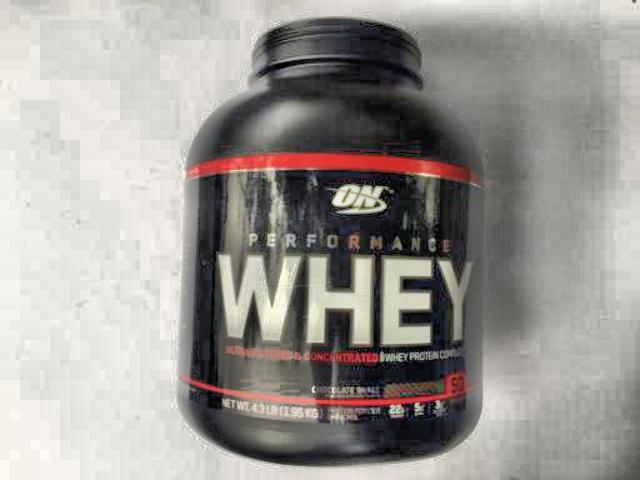Plastic: (142, 13, 516, 480)
